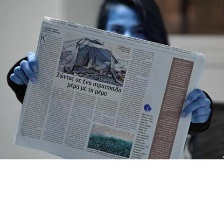news_paper: (10, 15, 209, 160)
